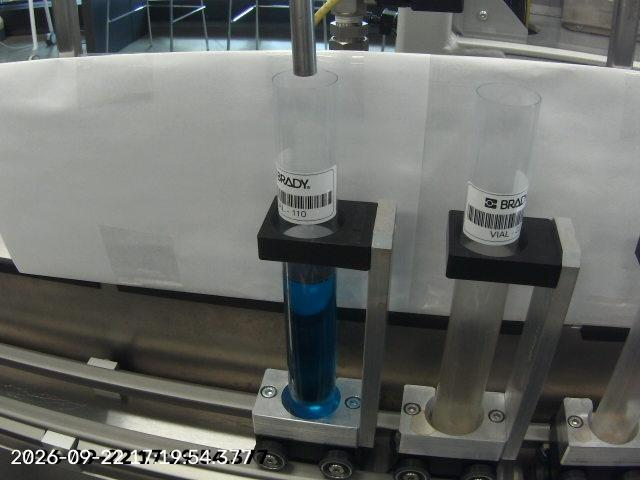vial: (427, 80, 544, 435), (270, 66, 342, 417)
